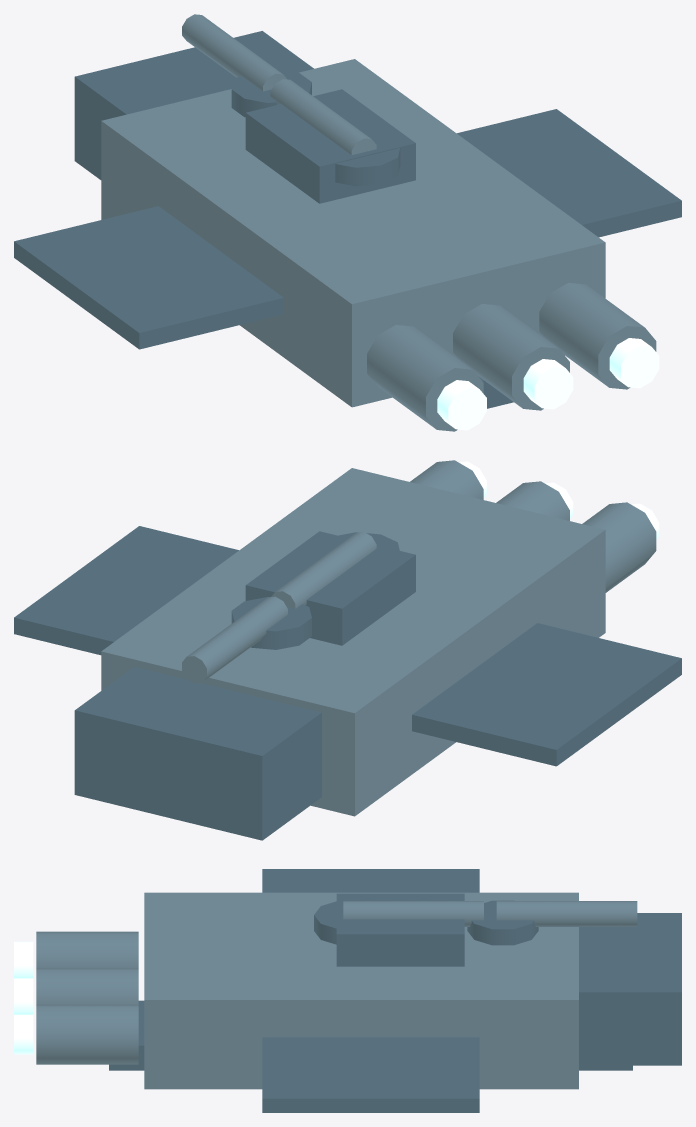
Rendered from line_ship.glb.
3 renders of one model, top to bottom at view 1: azimuth 30°, elevation 25°; view 2: azimuth 150°, elevation 25°; view 3: azimuth 270°, elevation 25°, orthographic. The views are drawn at different scales.
Parts seen in each view (by area): view 1: MainHull, PortWing, StarboardWing, ForeHull, Bridge, Engine0, Engine2, Engine1, TurretBarrel0, TurretBarrel1, EngineGlow2, EngineGlow1 (+3 smaller); view 2: MainHull, ForeHull, PortWing, StarboardWing, Bridge, Engine0, TurretBarrel0, TurretBarrel1, Turret0, Engine2, Engine1; view 3: MainHull, StarboardWing, ForeHull, Bridge, Engine2, PortWing, Engine0, Engine1, TurretBarrel0, TurretBarrel1, Turret0, Keel (+4 smaller).
Part boxes in pixels (x1,y1,x2,y2): MainHull: (101, 59, 605, 407); PortWing: (14, 206, 283, 349); StarboardWing: (457, 109, 681, 237); ForeHull: (74, 31, 313, 179); Bridge: (245, 89, 415, 203); Engine0: (367, 325, 483, 431); Engine2: (539, 282, 656, 389); Engine1: (453, 303, 569, 410); TurretBarrel0: (182, 14, 287, 91); TurretBarrel1: (270, 79, 376, 155); EngineGlow2: (609, 338, 659, 388); EngineGlow1: (523, 359, 573, 409); MainHull: (101, 468, 605, 816); ForeHull: (74, 667, 321, 840); PortWing: (412, 623, 681, 766); StarboardWing: (14, 526, 238, 655); Bridge: (245, 531, 415, 645); Engine0: (582, 502, 656, 592); TurretBarrel0: (182, 596, 287, 683); TurretBarrel1: (271, 532, 376, 608); Turret0: (231, 597, 311, 649); Engine2: (410, 460, 483, 499); Engine1: (496, 481, 569, 520); MainHull: (144, 892, 578, 1089); StarboardWing: (262, 1037, 479, 1112); ForeHull: (579, 913, 681, 1065); Bridge: (336, 893, 464, 966); Engine2: (36, 1004, 138, 1064); PortWing: (262, 869, 479, 892); Engine0: (36, 931, 138, 968); Engine1: (36, 968, 138, 1004); TurretBarrel0: (496, 901, 637, 926); TurretBarrel1: (343, 901, 483, 926); Turret0: (467, 900, 538, 945); Keel: (109, 1000, 632, 1070).
Bounding box in the file's own units: 5.78 × 1.72 × 7.11.
